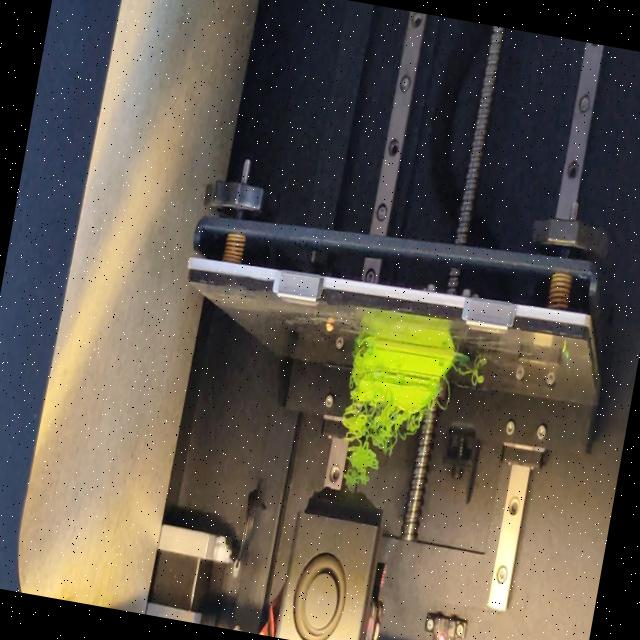spaghetti: (332, 398, 422, 506), (447, 364, 488, 389), (433, 371, 454, 414), (353, 329, 370, 354)
